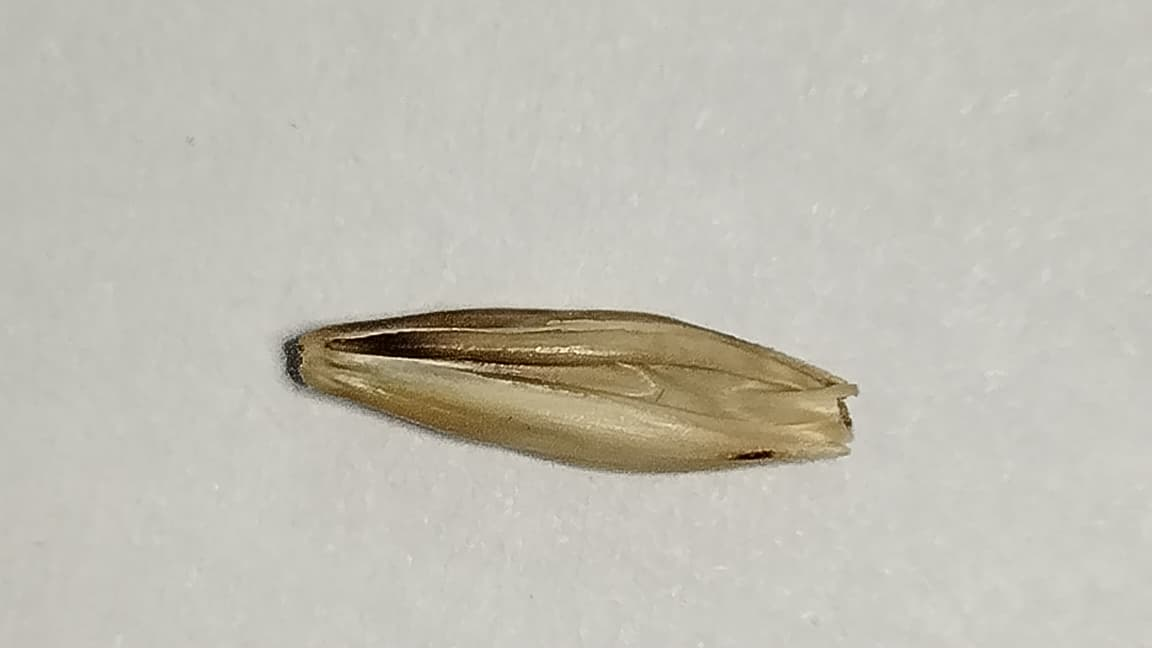healthy-70-60: (291, 310, 856, 472)
staindamage: (325, 311, 617, 383)
